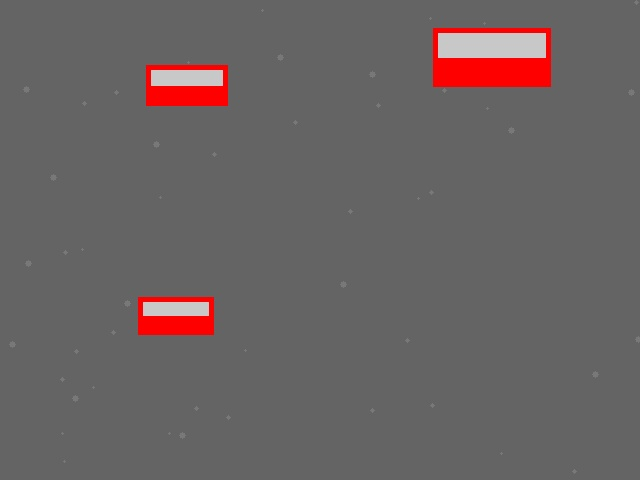car: (433, 28, 550, 86), (146, 65, 227, 105), (138, 297, 213, 334)
